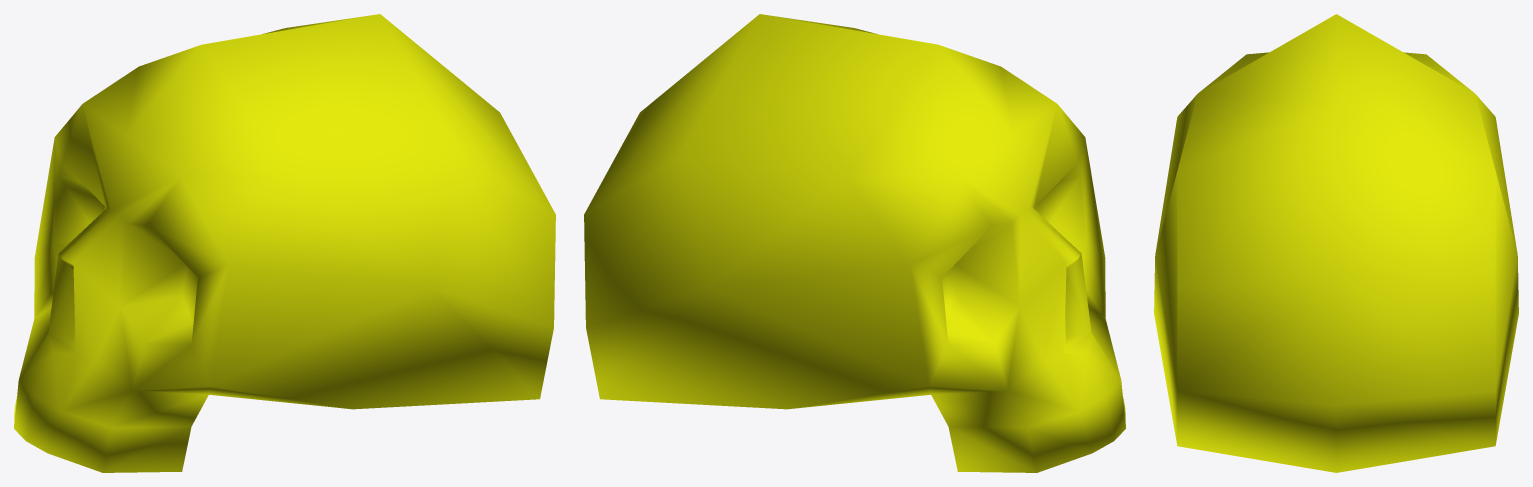
File: Puzzle_Skull_06.fbx
The picture shows the model from 3 angles, left to right: view 1: azimuth 30°, elevation 25°; view 2: azimuth 150°, elevation 25°; view 3: azimuth 270°, elevation 25°; orthographic projection. The views are drawn at different scales.
Visible parts, largest first — view 1: Puzzle_Skull_06; view 2: Puzzle_Skull_06; view 3: Puzzle_Skull_06.
Boxes of the visible parts, x1=… form: Puzzle_Skull_06: x1=14, y1=14, x2=555, y2=472; Puzzle_Skull_06: x1=584, y1=14, x2=1125, y2=472; Puzzle_Skull_06: x1=1154, y1=14, x2=1518, y2=472.
Size of the model in its own units: 7.94 by 5.88 by 5.63.
